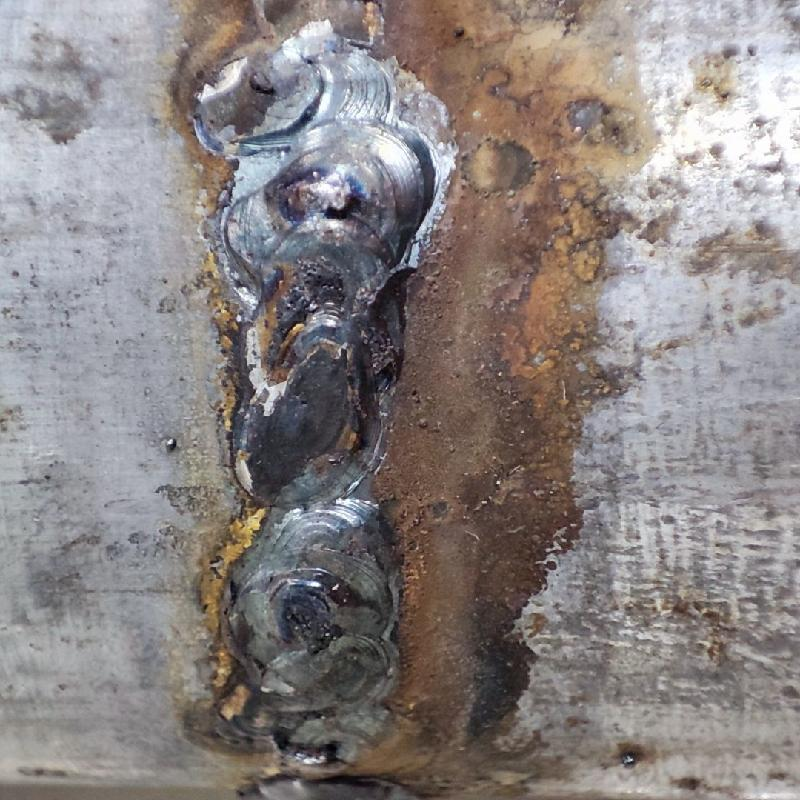Not_fully_soldered: (190, 0, 402, 141), (210, 720, 406, 795)
wrong_size: (206, 148, 437, 716)
